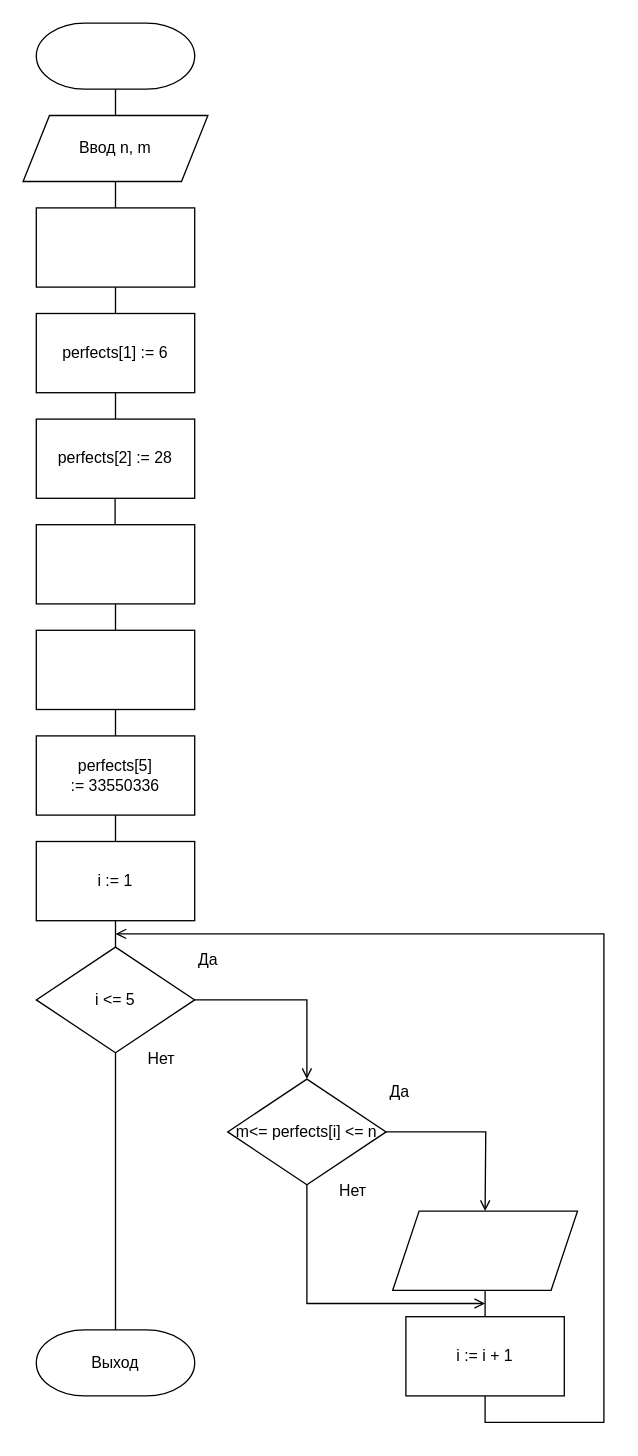
Image size: 638x1456. Some labels were removed from this diagram. Here are the shapes that lost their labels. From the top down, the centre of each, then its label:
the point at 115,55: Вход
the point at 115,247: perfects := array[1..5]
the point at 115,563: perfects[3] := 496
the point at 115,669: perfects[4] := 8128
the point at 484,1250: Вывод perfects[i]
